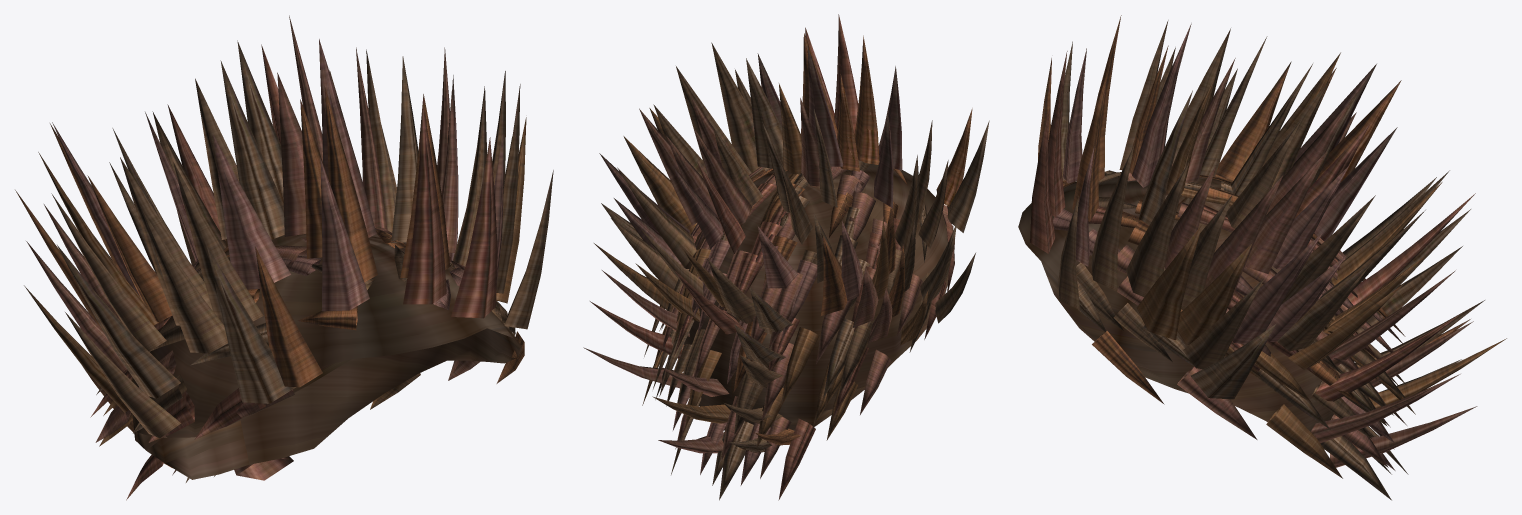
File: espetado.glb
The picture shows the model from 3 angles, left to right: view 1: azimuth 30°, elevation 25°; view 2: azimuth 150°, elevation 25°; view 3: azimuth 270°, elevation 25°; orthographic projection. The views are drawn at different scales.
Visible parts, largest first — view 1: cabelo_espetado; view 2: cabelo_espetado; view 3: cabelo_espetado.
Part boxes in pixels (bbox=[...]): cabelo_espetado: bbox=[15, 15, 553, 500]; cabelo_espetado: bbox=[583, 14, 989, 500]; cabelo_espetado: bbox=[1018, 15, 1506, 500].
Bounding box in the file's own units: 0.2401 × 0.2564 × 0.2498.
Materials: 1 (1 with a texture image).
